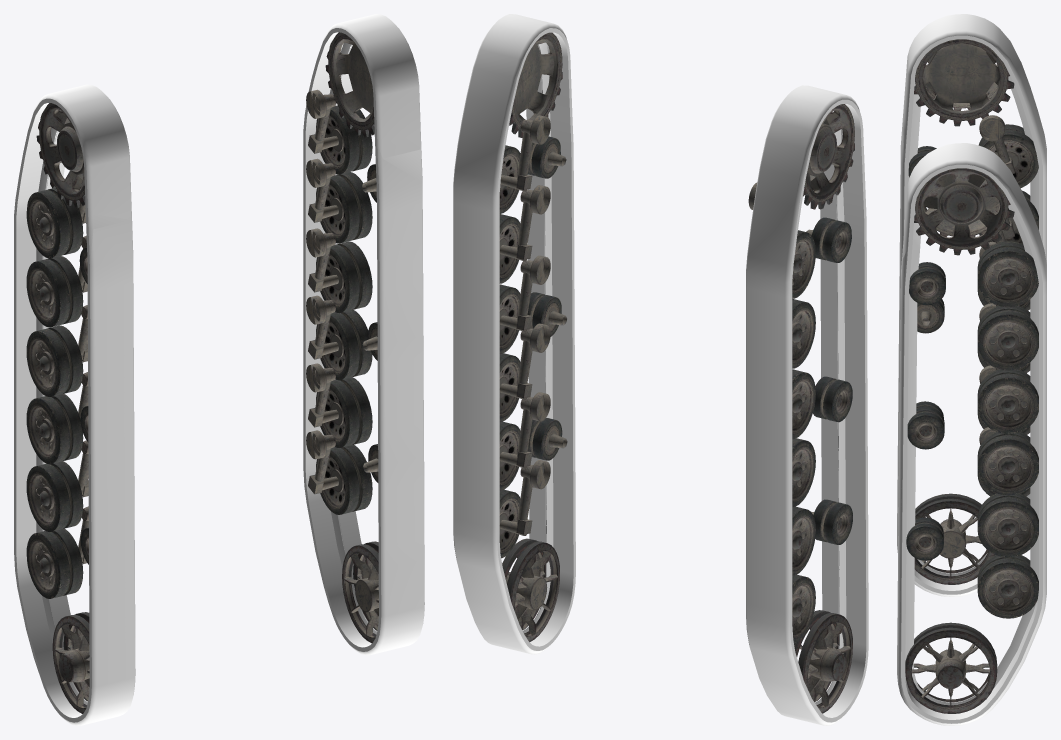
Rendered from Chassis.glb.
3 views of the same model, side by side, from view 1: azimuth 30°, elevation 25°; view 2: azimuth 150°, elevation 25°; view 3: azimuth 270°, elevation 25° (orthographic). The views are drawn at different scales.
Visible parts, largest first — view 1: set_0_group_0, set_1_group_0, set_3_group_0, set_2_group_0; view 2: set_0_group_0, set_1_group_0, set_3_group_0, set_2_group_0; view 3: set_3_group_0, set_1_group_0, set_2_group_0, set_0_group_0.
Boxes of the visible parts, <box> form: set_0_group_0: <box>14,84,135,725</box>; set_1_group_0: <box>303,14,424,655</box>; set_3_group_0: <box>306,32,378,643</box>; set_2_group_0: <box>26,103,89,713</box>; set_0_group_0: <box>746,85,868,725</box>; set_1_group_0: <box>453,14,575,654</box>; set_3_group_0: <box>499,32,567,641</box>; set_2_group_0: <box>748,104,854,713</box>; set_3_group_0: <box>905,168,1038,713</box>; set_1_group_0: <box>897,143,1046,725</box>; set_2_group_0: <box>908,39,1038,584</box>; set_0_group_0: <box>897,14,1046,596</box>.
Bounding box in the file's own units: 2.92 × 5.14 × 1.23.
4 materials, 2 textured.
